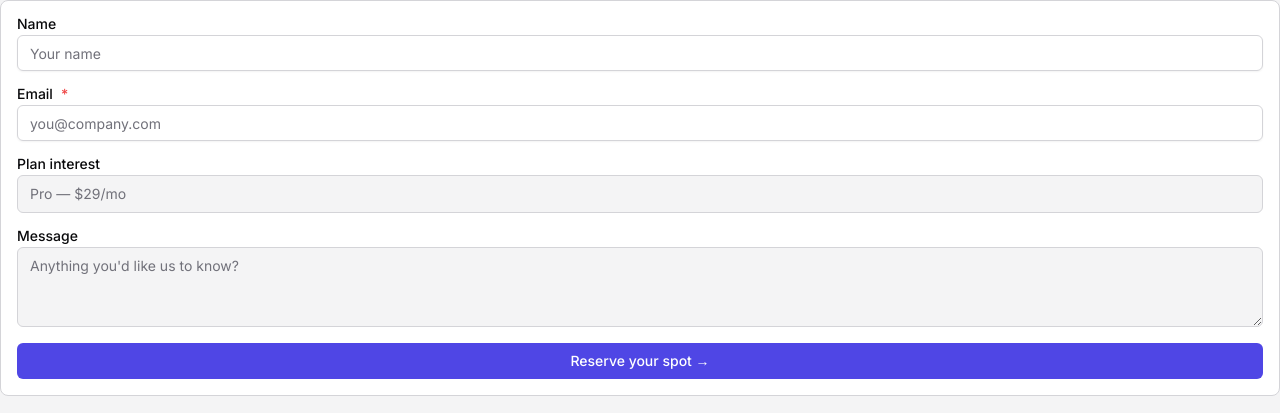
it: WaitlistForm › shows "Submitting…" on the button while the request is in flight
In the field labelled "Email *": (640, 123) [17,105,1263,141], type "user@example.com"
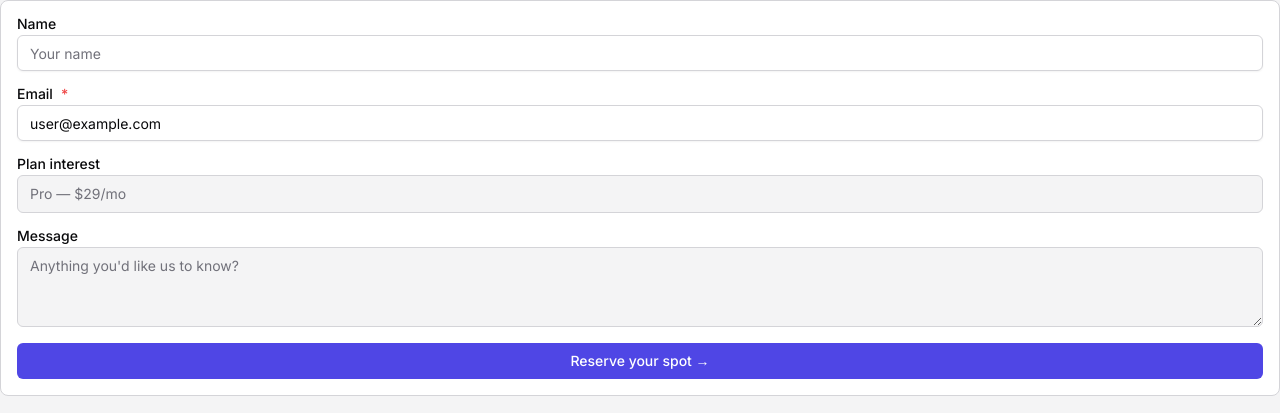
Submit the form "Reserve your spot"
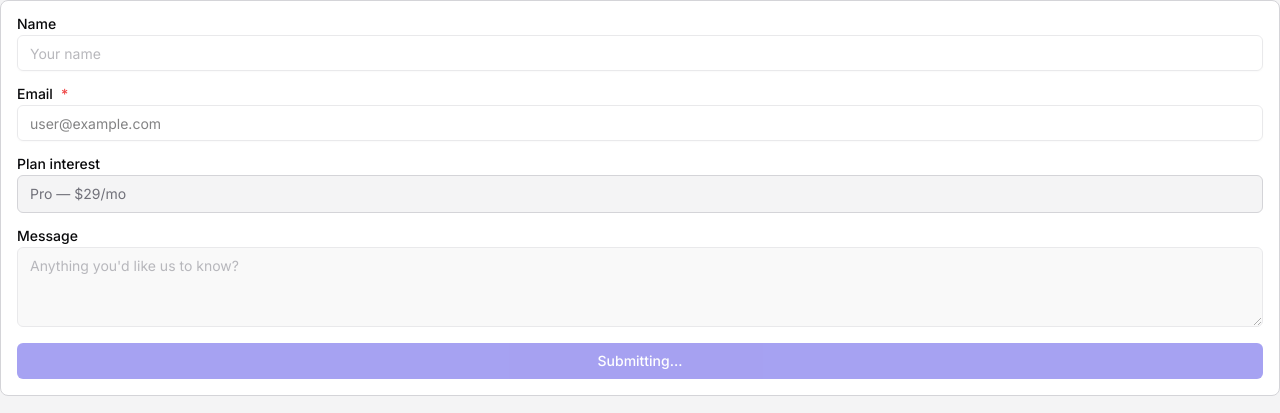
expect the button "Submitting…" is shown: met, box [17,343,1263,379]
